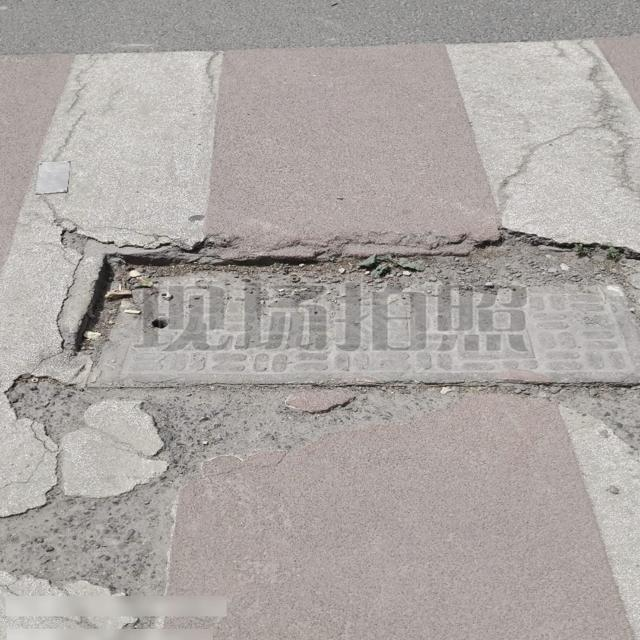circle: (52, 245, 640, 396)
